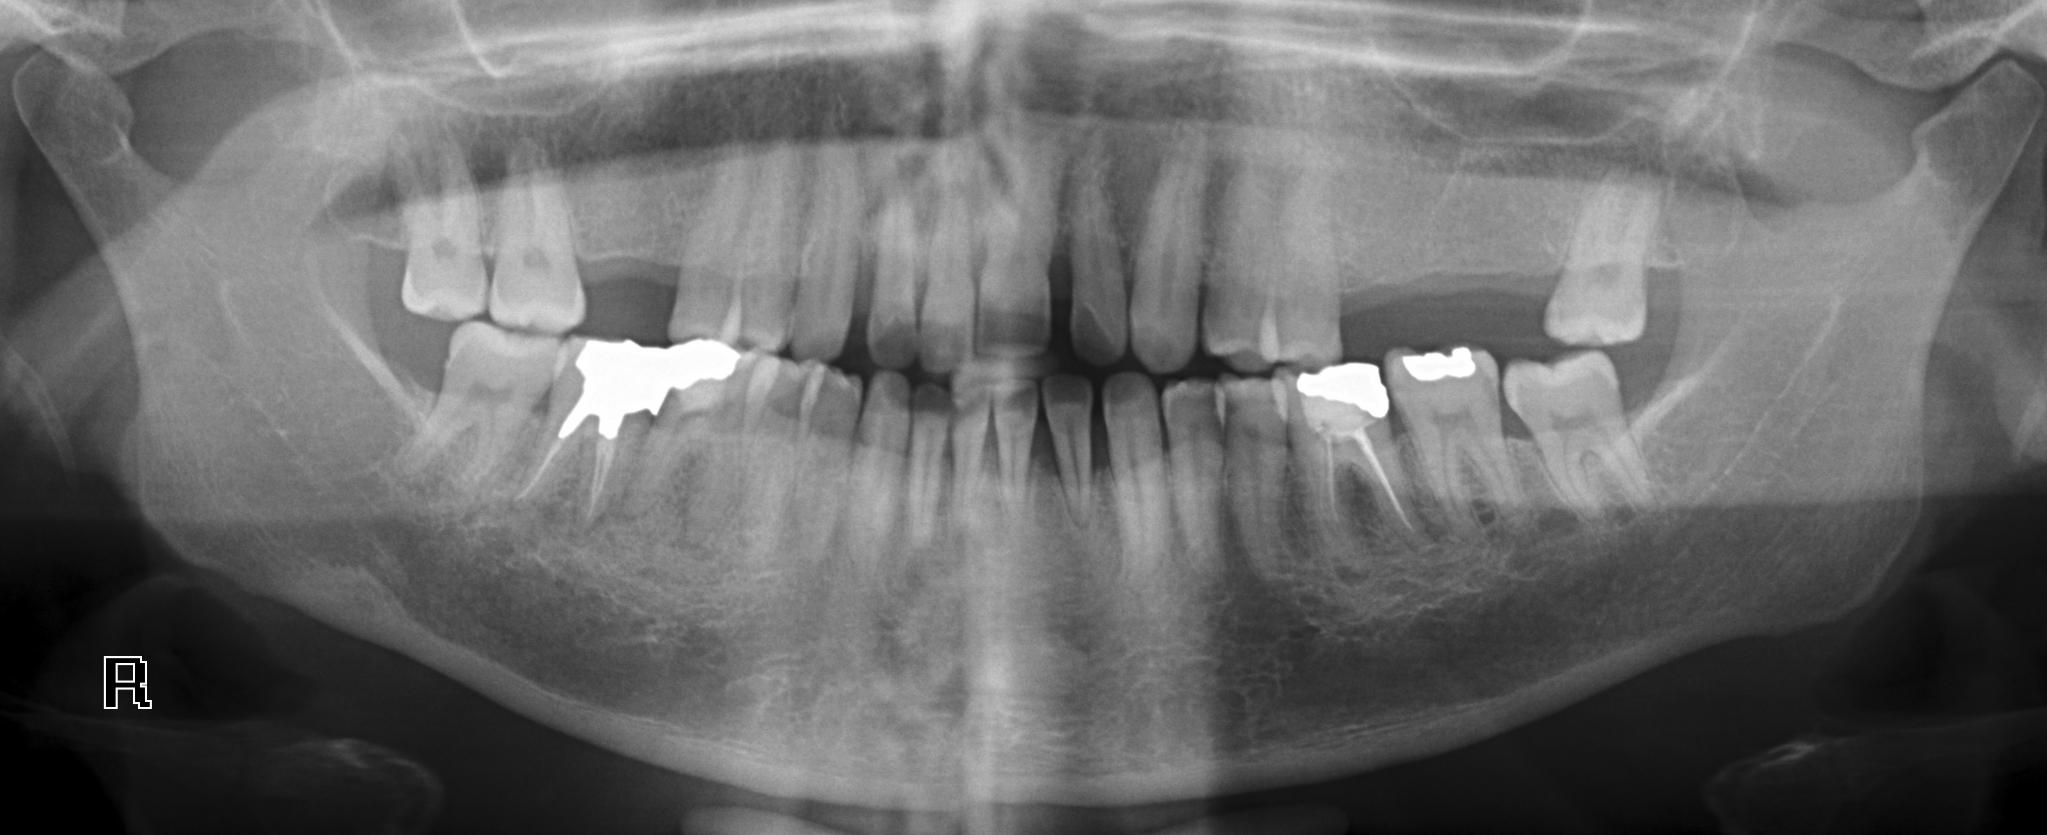Cavity: (1040, 372, 1098, 536)
Fillings: (1389, 346, 1513, 538)
Implant: (514, 331, 670, 535), (1279, 360, 1422, 562)
